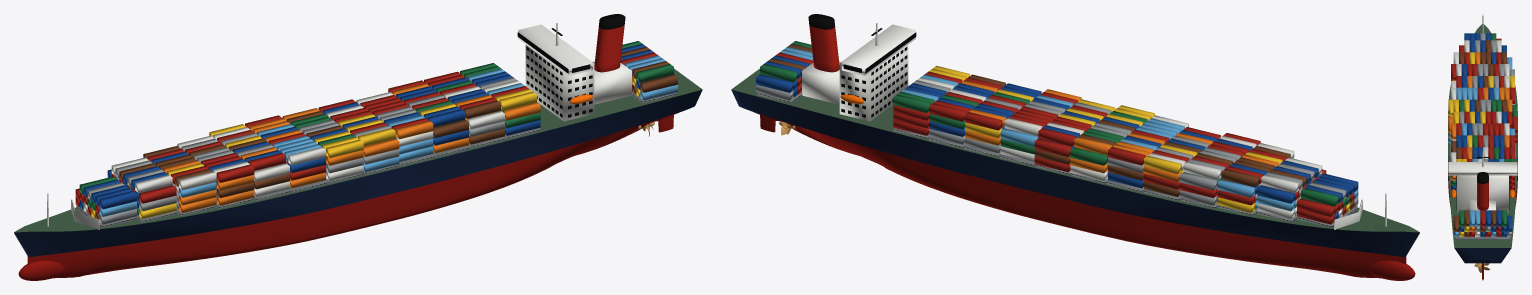
The model's file is container_ship_kcs.light.glb.
3 renders of one model, left to right at view 1: azimuth 30°, elevation 25°; view 2: azimuth 150°, elevation 25°; view 3: azimuth 270°, elevation 25°, orthographic. The views are drawn at different scales.
Visible parts, largest first — view 1: hull__hull_navy, hull__antifouling_red, containers__box_red, containers__box_blue, containers__box_orange, containers__box_white, containers__box_brown, containers__box_grey, hull__deck_green, containers__box_lightblue, containers__box_yellow, deckhouse (+7 smaller); view 2: hull__hull_navy, hull__antifouling_red, containers__box_red, containers__box_blue, containers__box_grey, hull__deck_green, containers__box_white, containers__box_green, containers__box_brown, containers__box_yellow, containers__box_lightblue, deckhouse (+7 smaller); view 3: containers__box_red, containers__box_blue, hull__deck_green, deckhouse, containers__box_grey, containers__box_brown, bridge, containers__box_white, containers__box_lightblue, containers__box_yellow, containers__box_orange, hull__hull_navy (+8 smaller).
Boxes of the visible parts, box(x1,y1,x2,y2) form: hull__hull_navy: box(14, 89, 702, 257); hull__antifouling_red: box(27, 112, 679, 278); containers__box_red: box(75, 52, 657, 215); containers__box_blue: box(79, 43, 671, 209); containers__box_orange: box(163, 77, 632, 212); containers__box_white: box(83, 80, 520, 212); containers__box_brown: box(95, 46, 677, 219); containers__box_grey: box(87, 77, 516, 224); hull__deck_green: box(14, 68, 702, 232); containers__box_lightblue: box(99, 55, 677, 216); containers__box_yellow: box(91, 77, 640, 218); deckhouse: box(525, 45, 594, 121); hull__hull_navy: box(731, 89, 1419, 257); hull__antifouling_red: box(754, 112, 1406, 278); containers__box_red: box(776, 52, 1354, 224); containers__box_blue: box(756, 55, 1358, 219); containers__box_grey: box(756, 80, 1358, 207); hull__deck_green: box(731, 68, 1419, 232); containers__box_white: box(917, 77, 1342, 218); containers__box_green: box(760, 41, 1350, 207); containers__box_brown: box(768, 43, 1354, 209); containers__box_yellow: box(929, 66, 1350, 212); containers__box_lightblue: box(780, 46, 1358, 211); deckhouse: box(839, 45, 908, 121); containers__box_red: box(1451, 38, 1517, 236); containers__box_blue: box(1451, 33, 1512, 236); hull__deck_green: box(1448, 24, 1517, 247); deckhouse: box(1457, 175, 1508, 212); containers__box_grey: box(1448, 33, 1514, 236); containers__box_brown: box(1451, 40, 1517, 236); bridge: box(1448, 162, 1517, 175); containers__box_white: box(1451, 40, 1509, 236); containers__box_lightblue: box(1448, 57, 1514, 236); containers__box_yellow: box(1448, 52, 1514, 236); containers__box_orange: box(1448, 52, 1512, 231); hull__hull_navy: box(1448, 156, 1517, 263).
Size of the model in its own units: 241 by 47 by 32.2.
